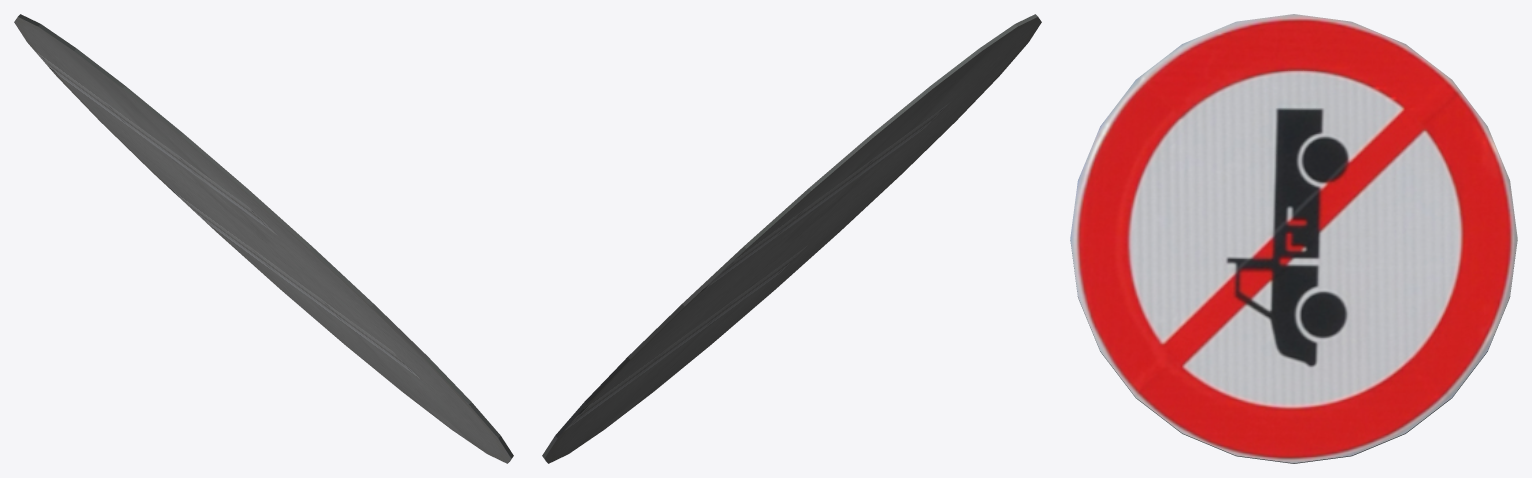
File: RTA0201220728_0051L_02_normalization.obj
The picture shows the model from 3 angles, left to right: view 1: azimuth 30°, elevation 25°; view 2: azimuth 150°, elevation 25°; view 3: azimuth 270°, elevation 25°; orthographic projection. The views are drawn at different scales.
Visible parts, largest first — view 1: RTA0201220818_0051S_02; view 2: RTA0201220818_0051S_02; view 3: RTA0201220818_0051S_02.
Boxes of the visible parts, x1,y1,x2,y2 form: RTA0201220818_0051S_02: (14, 14, 513, 463); RTA0201220818_0051S_02: (542, 14, 1041, 463); RTA0201220818_0051S_02: (1070, 14, 1517, 463).
Size of the model in its own units: 0.465 by 0.5531 by 0.6913.
1 material, 1 textured.
